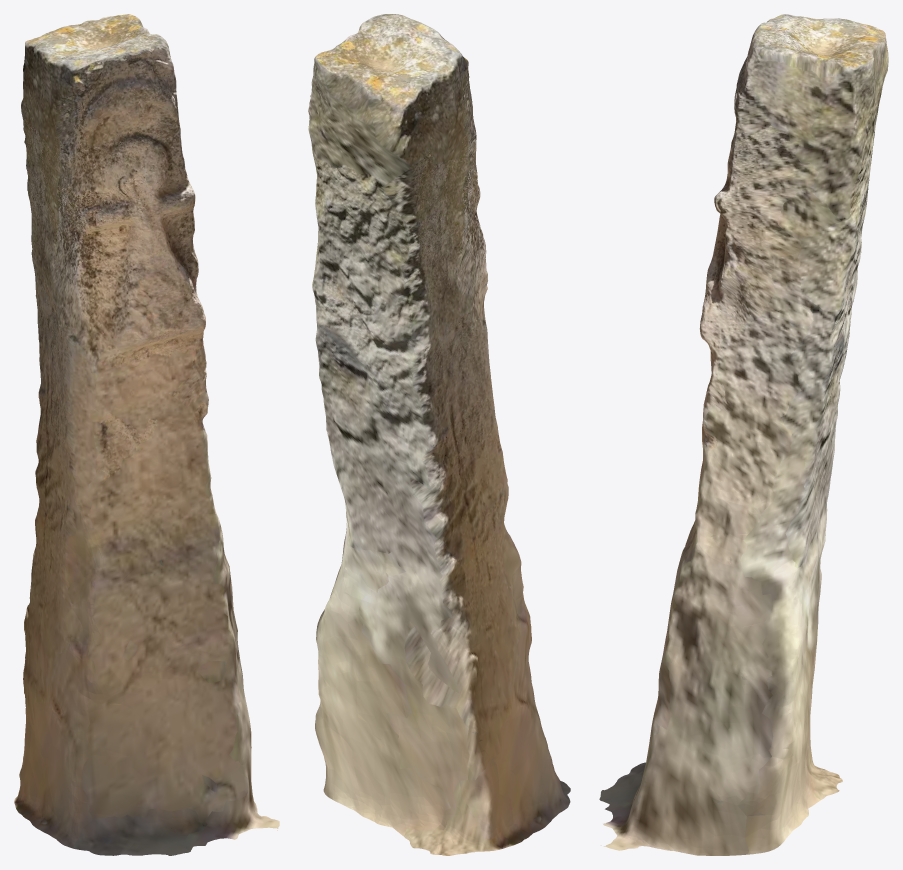
Rendered from tanit-stela.glb.
3 views of the same model, side by side, from view 1: azimuth 30°, elevation 25°; view 2: azimuth 150°, elevation 25°; view 3: azimuth 270°, elevation 25° (orthographic). The views are drawn at different scales.
Parts seen in each view (by area): view 1: Object_2; view 2: Object_2; view 3: Object_2.
Boxes of the visible parts, box(x1,y1,x2,y2) form: Object_2: box(14, 14, 279, 855); Object_2: box(308, 14, 570, 855); Object_2: box(599, 14, 888, 855).
Size of the model in its own units: 0.2813 by 0.9799 by 0.3291.
1 material, 1 textured.
